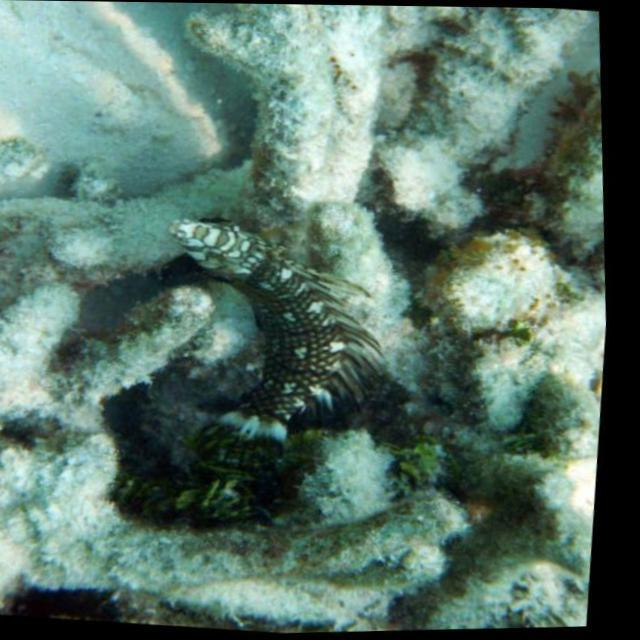Dead Coral: (338, 4, 640, 636), (0, 424, 381, 640), (0, 148, 183, 450), (168, 2, 394, 212)
